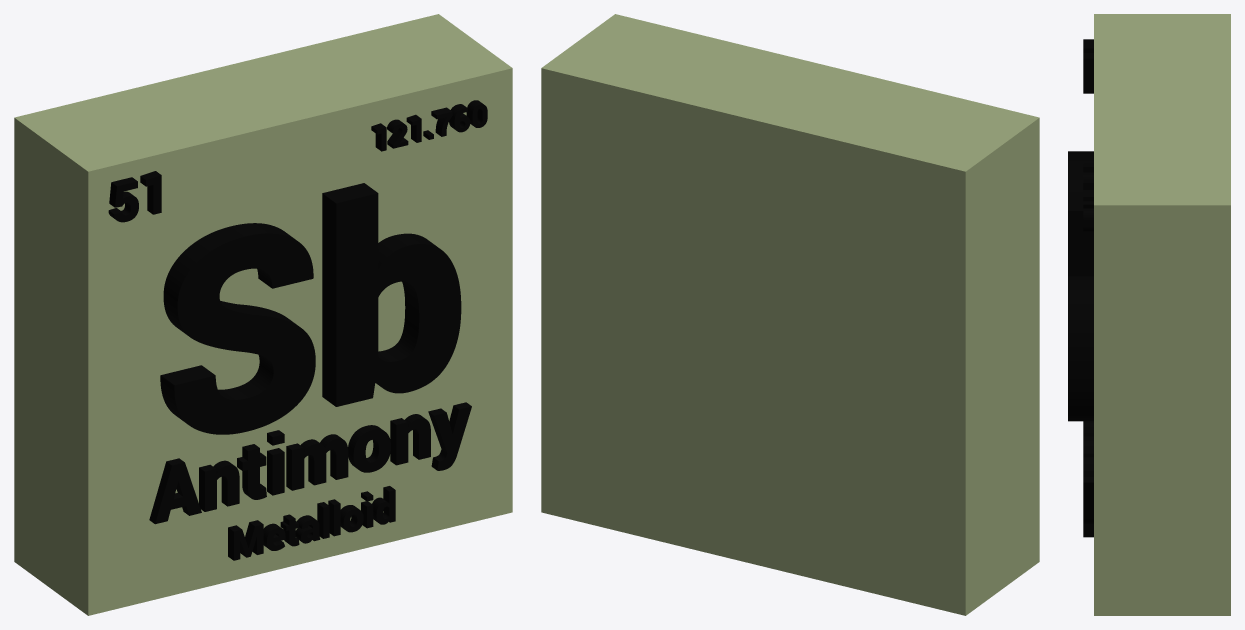
3 views of the same model, side by side, from view 1: azimuth 30°, elevation 25°; view 2: azimuth 150°, elevation 25°; view 3: azimuth 270°, elevation 25° (orthographic). The views are drawn at different scales.
Visible parts, largest first — view 1: Cube, Text, Text.001, Text.002, Text.004, Text.003; view 2: Cube; view 3: Cube, Text, Text.001, Text.004, Text.003.
Part boxes in pixels (left/top/right/bottom): Cube: left=14, top=14, right=512, bottom=615; Text: left=160, top=183, right=461, bottom=434; Text.001: left=149, top=402, right=471, bottom=524; Text.002: left=228, top=486, right=395, bottom=560; Text.004: left=371, top=100, right=487, bottom=151; Text.003: left=108, top=171, right=161, bottom=222; Cube: left=541, top=14, right=1039, bottom=615; Cube: left=1094, top=14, right=1230, bottom=615; Text: left=1068, top=151, right=1093, bottom=421; Text.001: left=1083, top=421, right=1093, bottom=523; Text.004: left=1083, top=163, right=1093, bottom=231; Text.003: left=1083, top=39, right=1093, bottom=93.
Size of the model in its own units: 178 by 178 by 63.95.
